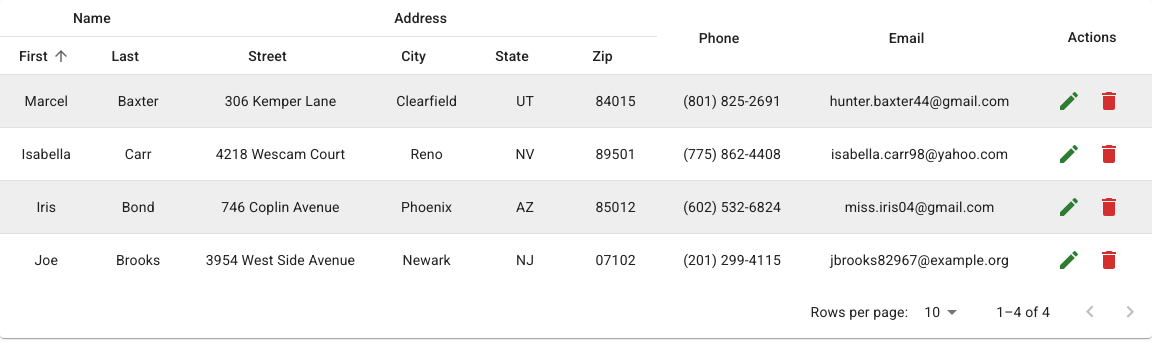
Test: Table Component Tests › table can render values and can sort asc/des
The image size is (1164, 357).
Click the button "Last" at (125, 56), box x1=111 y1=48 x2=139 y2=64
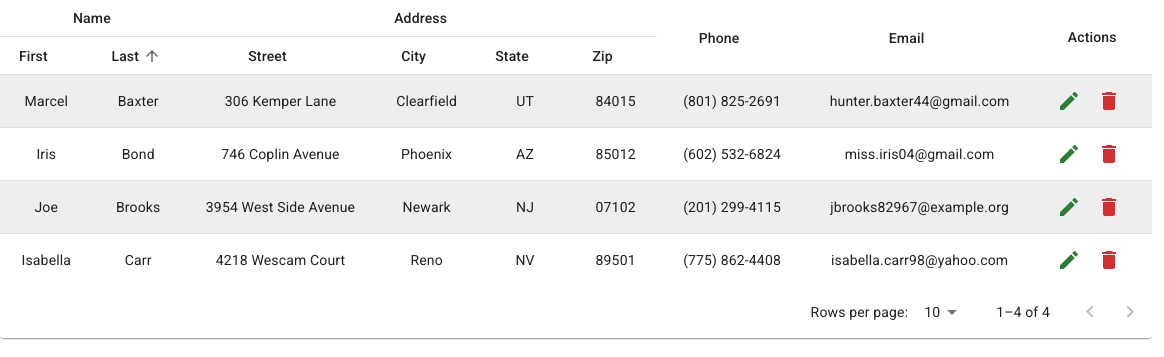
Check: the text "Bond" is shown, box x1=93 y1=128 x2=184 y2=181
Check: the text "Brooks" is shown, box x1=93 y1=181 x2=184 y2=234
Check: the text "Carr" is shown, box x1=93 y1=234 x2=184 y2=286
Click the button "Last" at (138, 56), box x1=111 y1=44 x2=165 y2=68
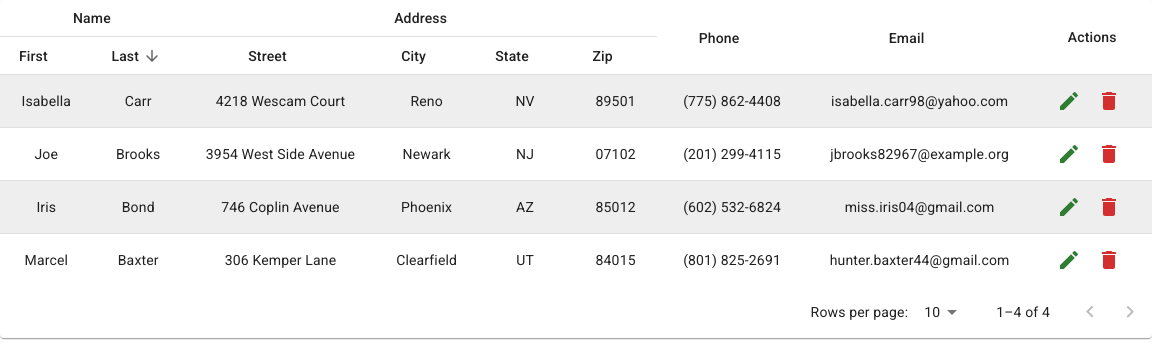
Check: the text "Carr" is shown, box x1=93 y1=75 x2=184 y2=128
Check: the text "Brooks" is shown, box x1=93 y1=128 x2=184 y2=181
Check: the text "Bond" is shown, box x1=93 y1=181 x2=184 y2=234
Note: test phone and email since the are rendered seperately from name/address
Click the button "Phone" at (719, 38), box x1=699 y1=30 x2=739 y2=46
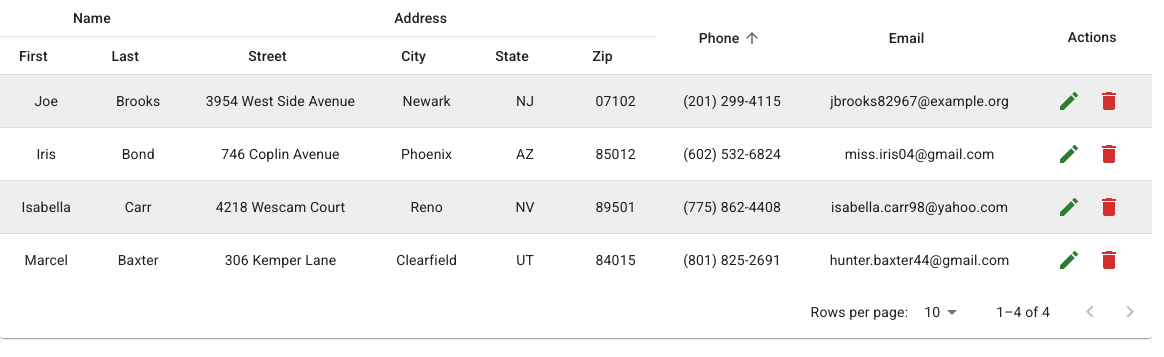
Check: the text "(201) 299-4115" is shown, box x1=657 y1=75 x2=807 y2=128
Check: the text "(602) 532-6824" is shown, box x1=657 y1=128 x2=807 y2=181
Check: the text "(775) 862-4408" is shown, box x1=657 y1=181 x2=807 y2=234
Click the button "Phone" at (732, 38), box x1=699 y1=26 x2=765 y2=50
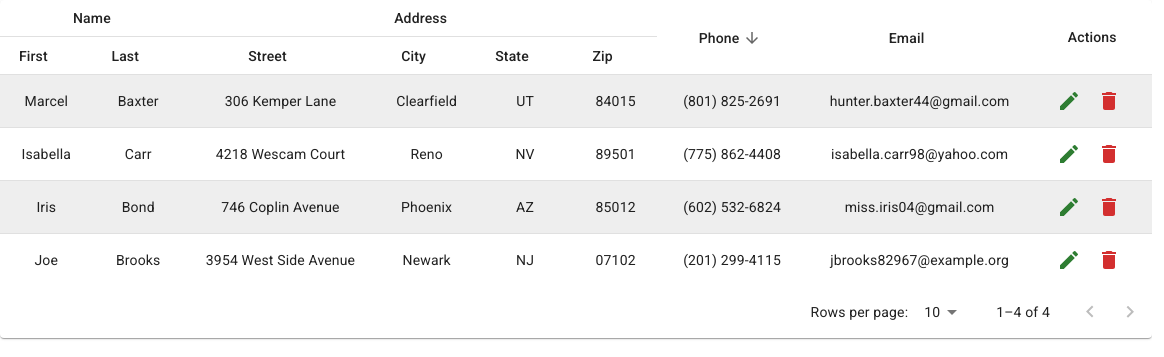
Check: the text "(801) 825-2691" is shown, box x1=657 y1=75 x2=807 y2=128
Check: the text "(775) 862-4408" is shown, box x1=657 y1=128 x2=807 y2=181
Check: the text "(602) 532-6824" is shown, box x1=657 y1=181 x2=807 y2=234
Click the button "Email" at (907, 38), box x1=889 y1=30 x2=924 y2=46
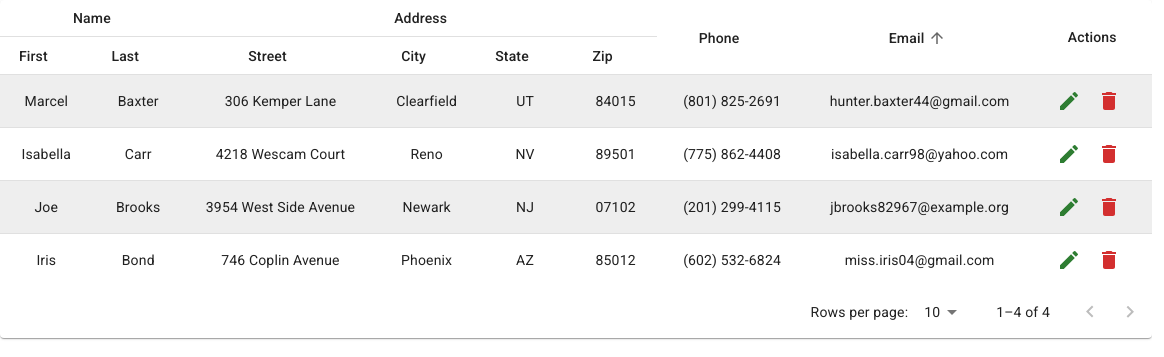
Check: the text "hunter.baxter44@gmail.com" is shown, box x1=807 y1=75 x2=1033 y2=128
Check: the text "isabella.carr98@yahoo.com" is shown, box x1=807 y1=128 x2=1033 y2=181
Check: the text "jbrooks82967@example.org" is shown, box x1=807 y1=181 x2=1033 y2=234
Click the button "Email" at (920, 38), box x1=889 y1=26 x2=950 y2=50
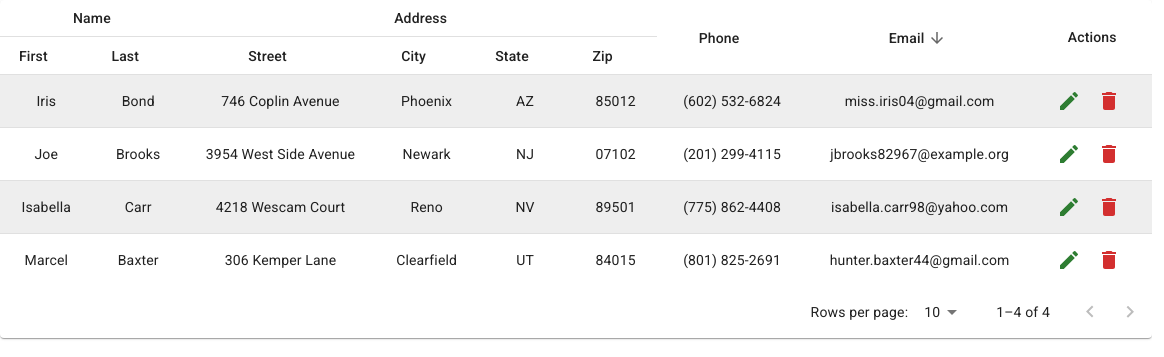
Check: the text "miss.iris04@gmail.com" is shown, box x1=807 y1=75 x2=1033 y2=128
Check: the text "jbrooks82967@example.org" is shown, box x1=807 y1=128 x2=1033 y2=181
Check: the text "isabella.carr98@yahoo.com" is shown, box x1=807 y1=181 x2=1033 y2=234
